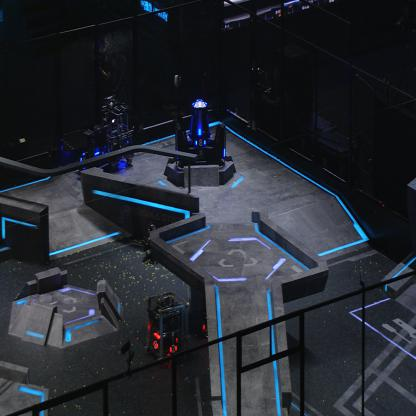car: (145, 292, 188, 368), (102, 97, 134, 169), (75, 124, 109, 178)
